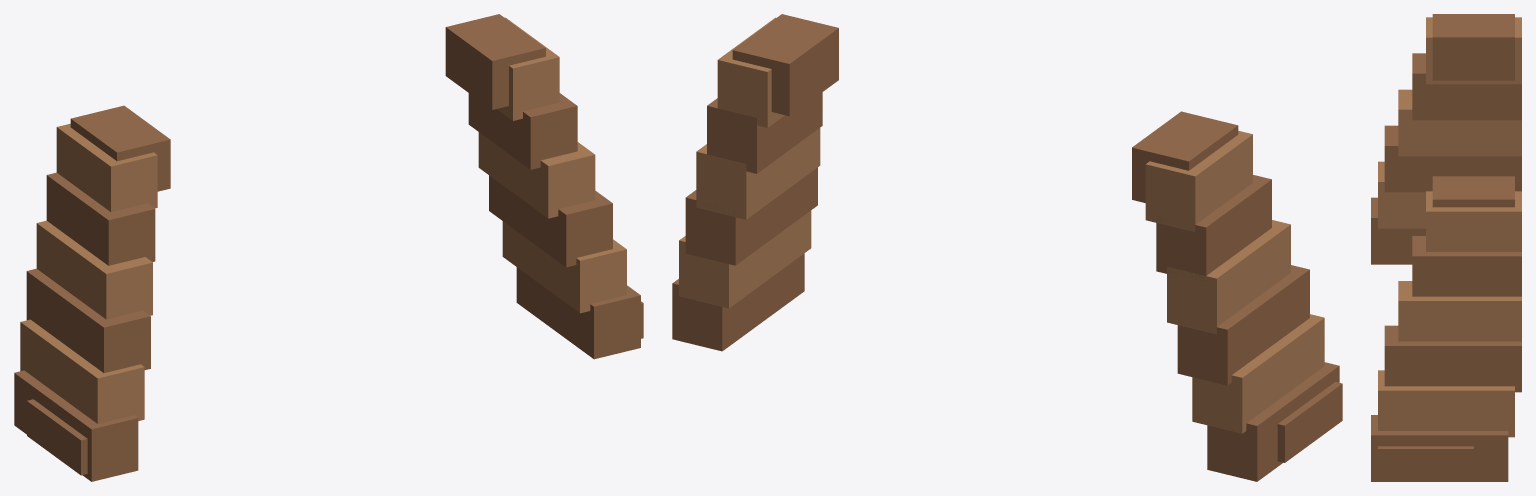
File: orelhas_cachorro.glb
3 views of the same model, side by side, from view 1: azimuth 30°, elevation 25°; view 2: azimuth 150°, elevation 25°; view 3: azimuth 270°, elevation 25° (orthographic). The views are drawn at different scales.
Parts seen in each view (by area): view 1: orelhas_cachorro; view 2: orelhas_cachorro; view 3: orelhas_cachorro.
Boxes of the visible parts, left/top/right/bottom form: orelhas_cachorro: left=14, top=14, right=643, bottom=481; orelhas_cachorro: left=672, top=14, right=1342, bottom=481; orelhas_cachorro: left=1371, top=14, right=1521, bottom=481.
Size of the model in its own units: 0.84 by 0.4125 by 0.22.
